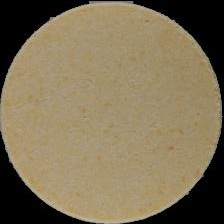68151-3566: (0, 0, 224, 224)
